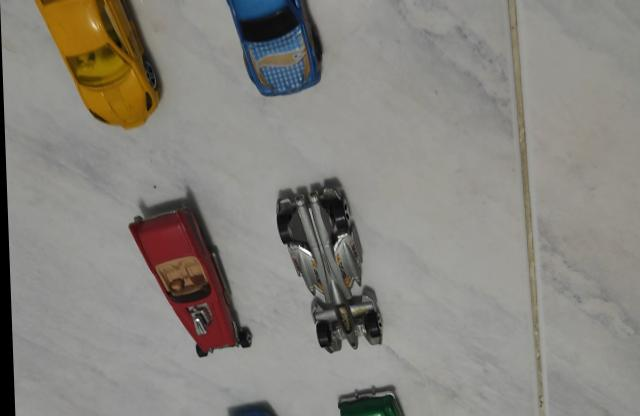03_V8: (126, 203, 250, 357)
04_MERZEDES: (225, 0, 322, 97)
05_DC121: (273, 180, 381, 351)
06_MASERATI: (333, 383, 406, 416)
07_RHLTURBO: (37, 0, 162, 129)
